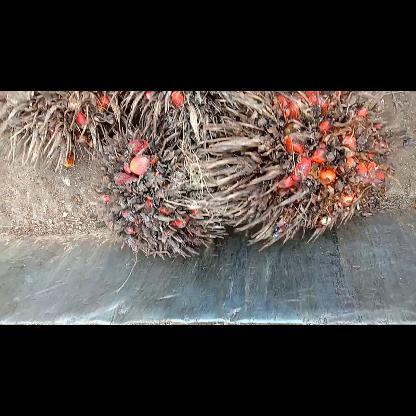Terlalu masak: (195, 91, 401, 256), (92, 113, 232, 262)
